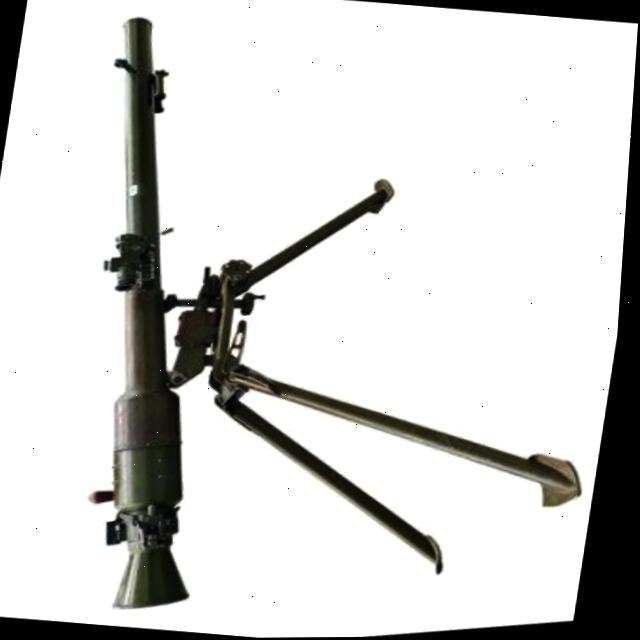rocket: (0, 0, 304, 629)
